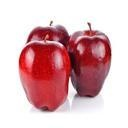apple: (18, 41, 71, 111)
